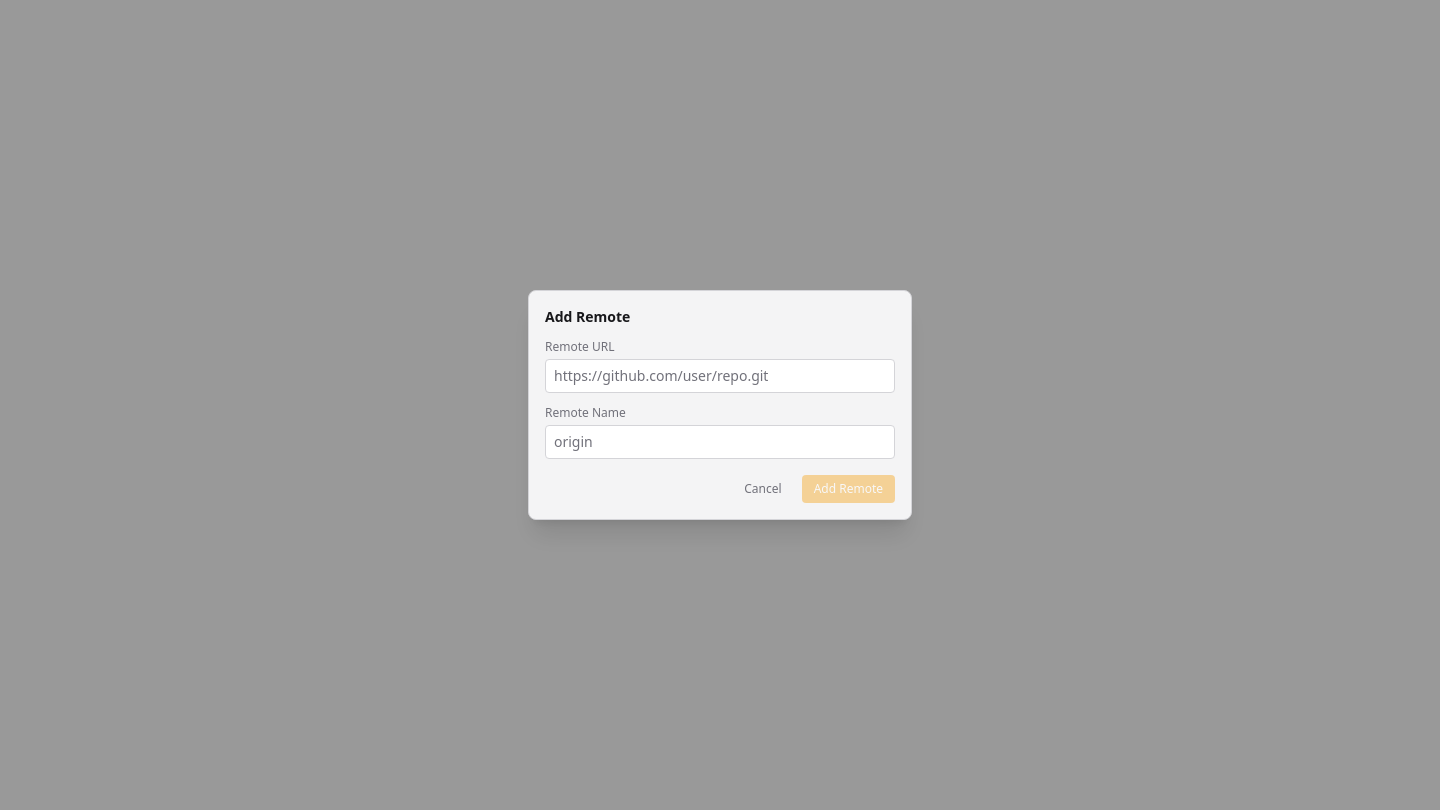
Scenario: AddRemoteDialog › appends number if auto-suggested name is taken
Type "git@github.com:user/repo.git" into the field with test id "add-remote-url" at (720,376), box [545,359,895,393]
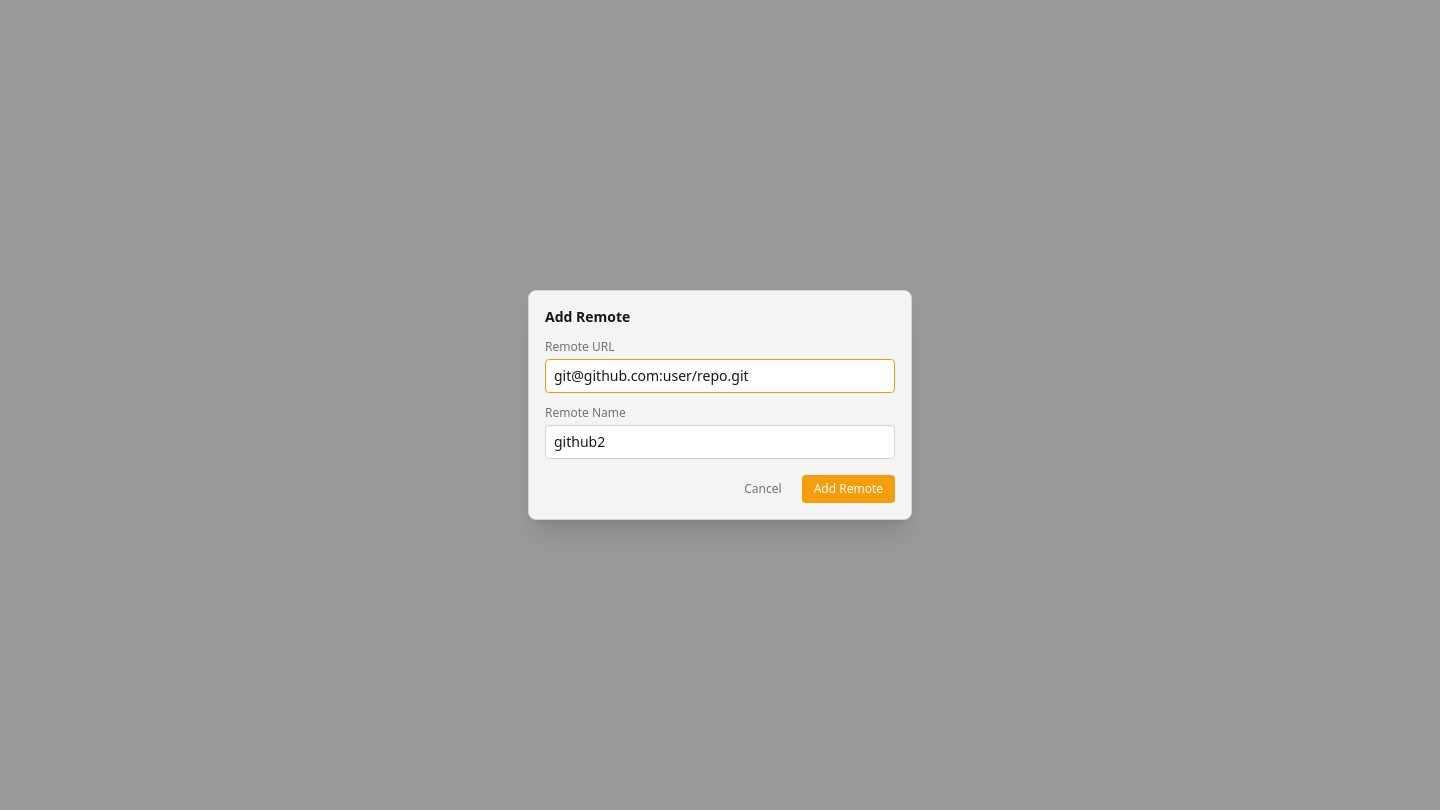
Check: the field with test id "add-remote-name" holds "github2", box [545,425,895,459]
